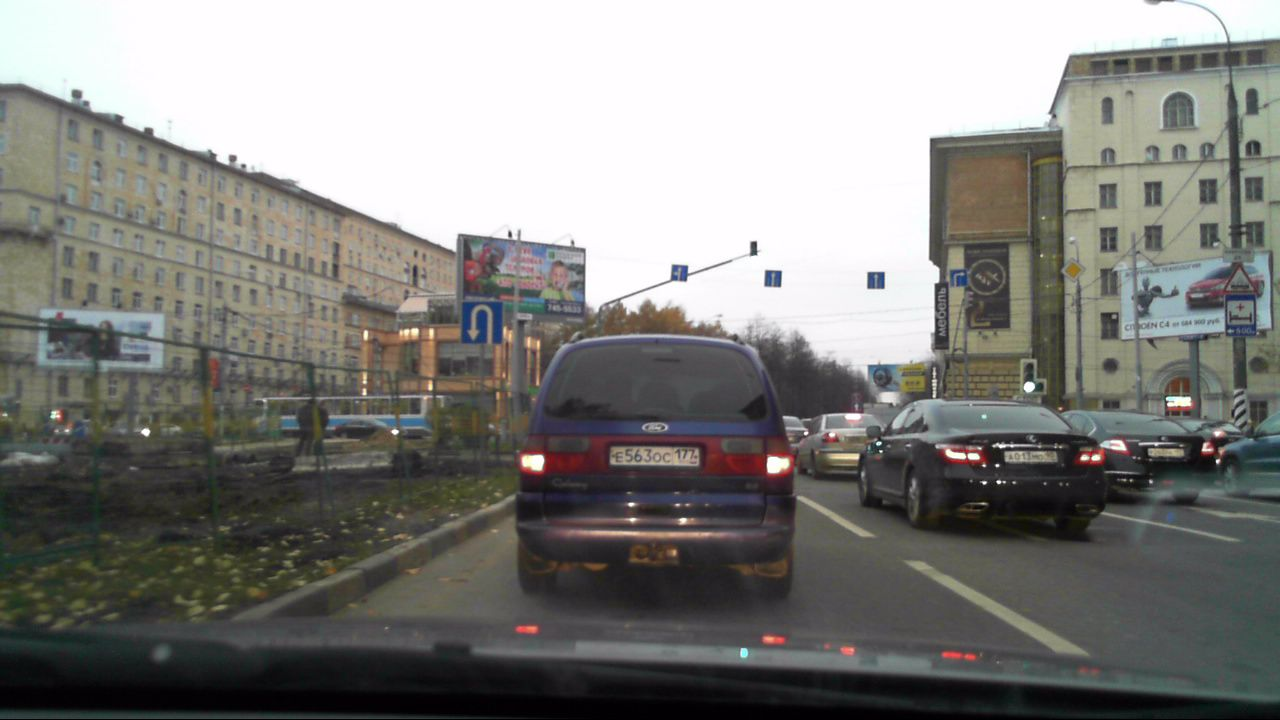U-turn: (462, 302, 501, 345)
